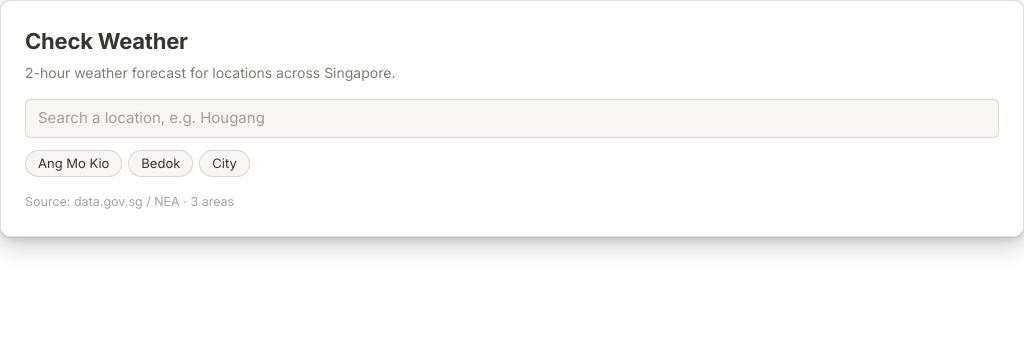
Test: WeatherForecast › shows an error for an unknown location
This screenshot has width=1024, height=360.
Type "Atlantis" into the dropdown labelled "location" at (512, 118), box [25,99,999,138]
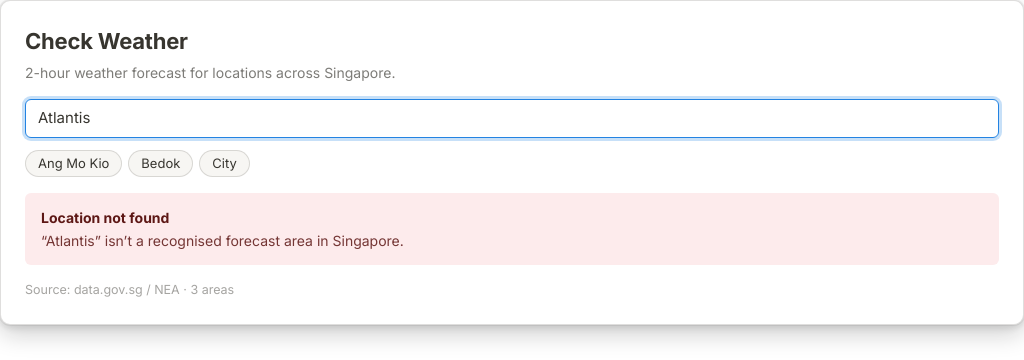
Result: the message shows "Location not found" at [41,209,169,226]
